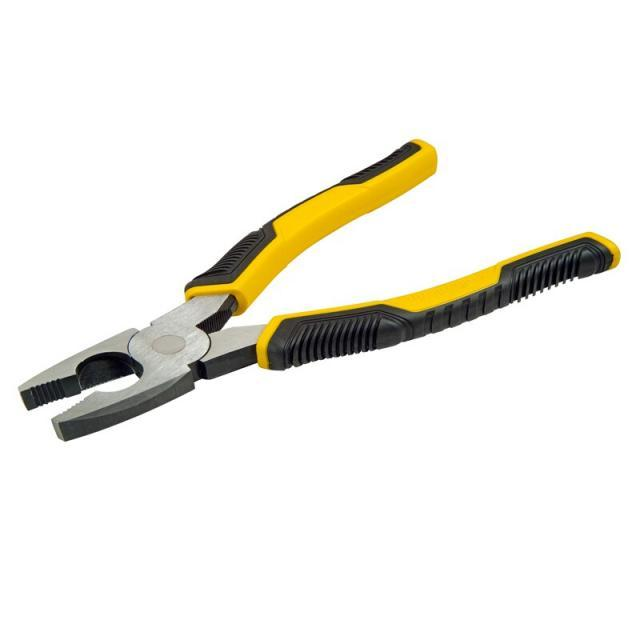pliers: (17, 135, 626, 451)
